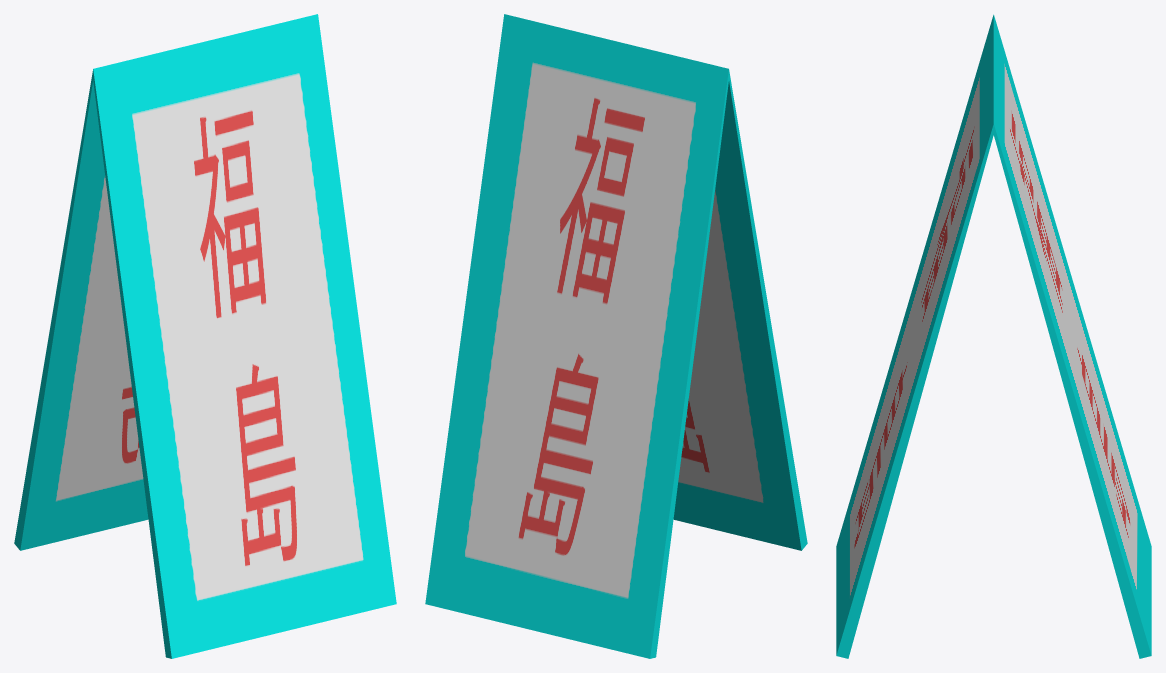
The model's file is Cartaz.fbx.
3 views of the same model, side by side, from view 1: azimuth 30°, elevation 25°; view 2: azimuth 150°, elevation 25°; view 3: azimuth 270°, elevation 25° (orthographic).
Parts seen in each view (by area): view 1: Plaquinha; view 2: Plaquinha; view 3: Plaquinha.
Boxes of the visible parts, bbox=[...] form: Plaquinha: bbox=[14, 14, 396, 658]; Plaquinha: bbox=[425, 14, 807, 658]; Plaquinha: bbox=[836, 14, 1151, 658].
Size of the model in its own units: 52.43 by 119 by 63.68.
